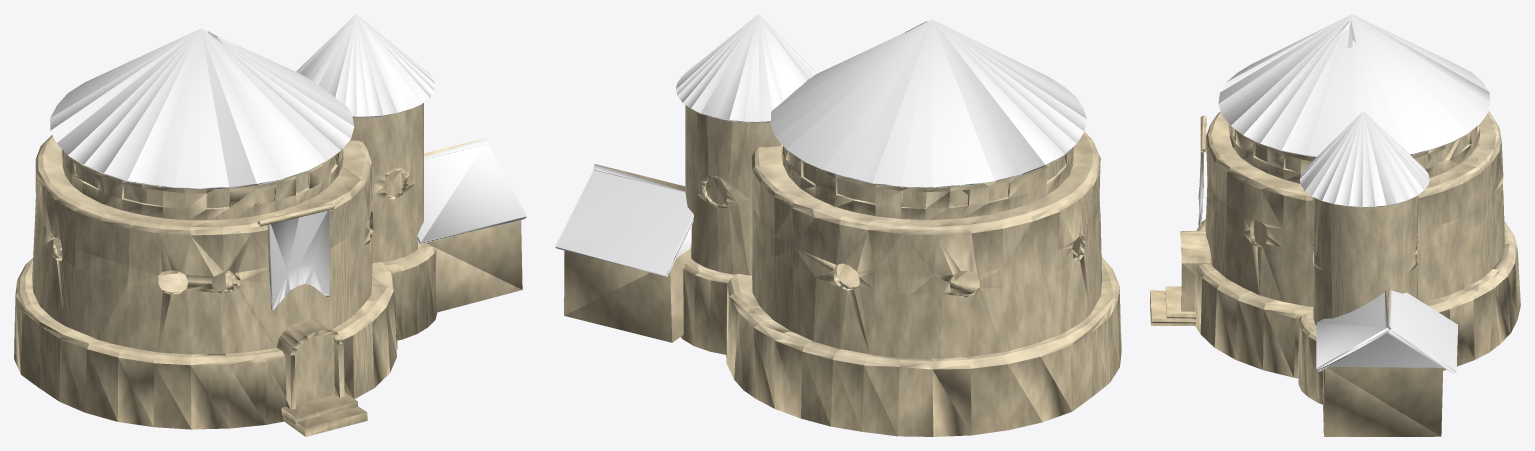
3 views of the same model, side by side, from view 1: azimuth 30°, elevation 25°; view 2: azimuth 150°, elevation 25°; view 3: azimuth 270°, elevation 25° (orthographic). The views are drawn at different scales.
Parts seen in each view (by area): view 1: castle; view 2: castle; view 3: castle.
Part boxes in pixels (<box>): castle: <box>14,14,526,436</box>; castle: <box>555,14,1121,436</box>; castle: <box>1150,14,1520,436</box>.
Bounding box in the file's own units: 2.9 × 1.98 × 2.25.
2 materials, 1 textured.
